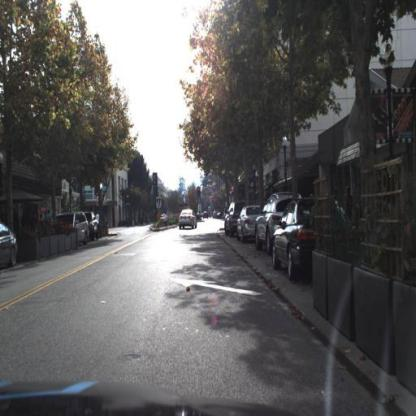car: (277, 197, 342, 283), (255, 193, 302, 261), (1, 222, 21, 273), (58, 213, 88, 247), (222, 202, 246, 240), (237, 204, 261, 242), (184, 208, 206, 236)
trafficLight-Red: (197, 186, 203, 200)
